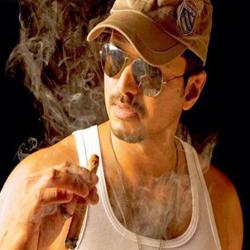smoking: (14, 151, 104, 250)
